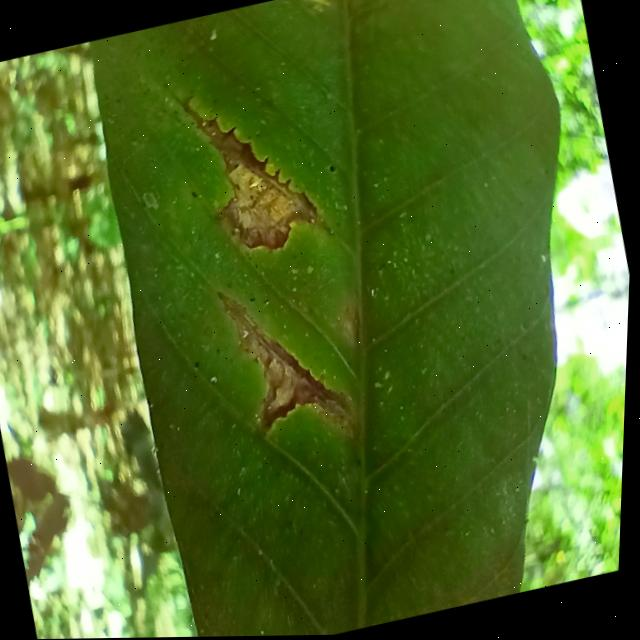Colletotrichum: (329, 164, 336, 173)
Corynespora: (173, 68, 340, 269), (218, 268, 369, 453)
